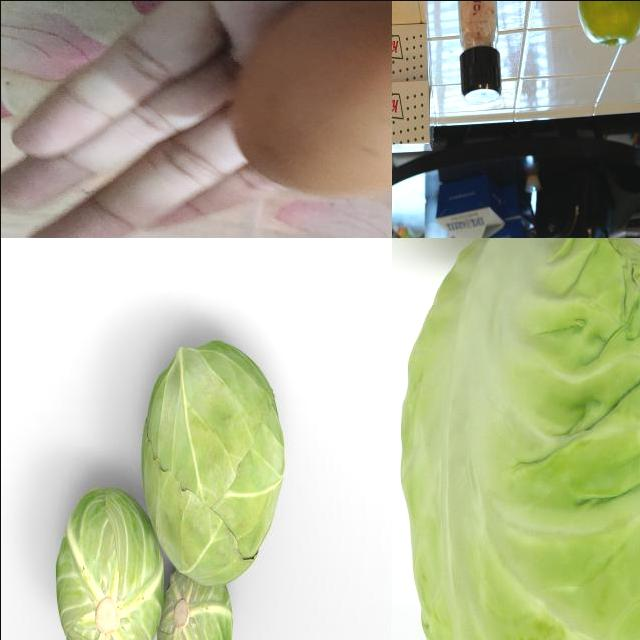cabbage: (400, 238, 640, 640), (139, 334, 288, 586), (53, 480, 167, 640), (157, 566, 234, 640)
egg: (224, 1, 392, 202)
